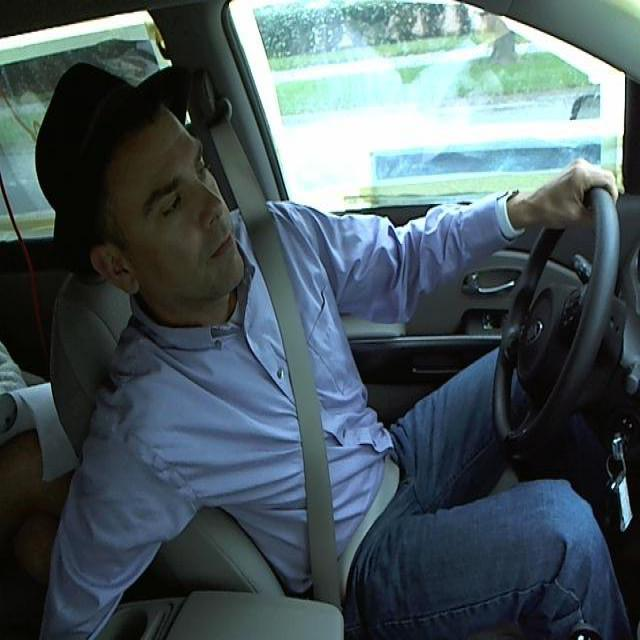seatbelt: (248, 237, 363, 587)
